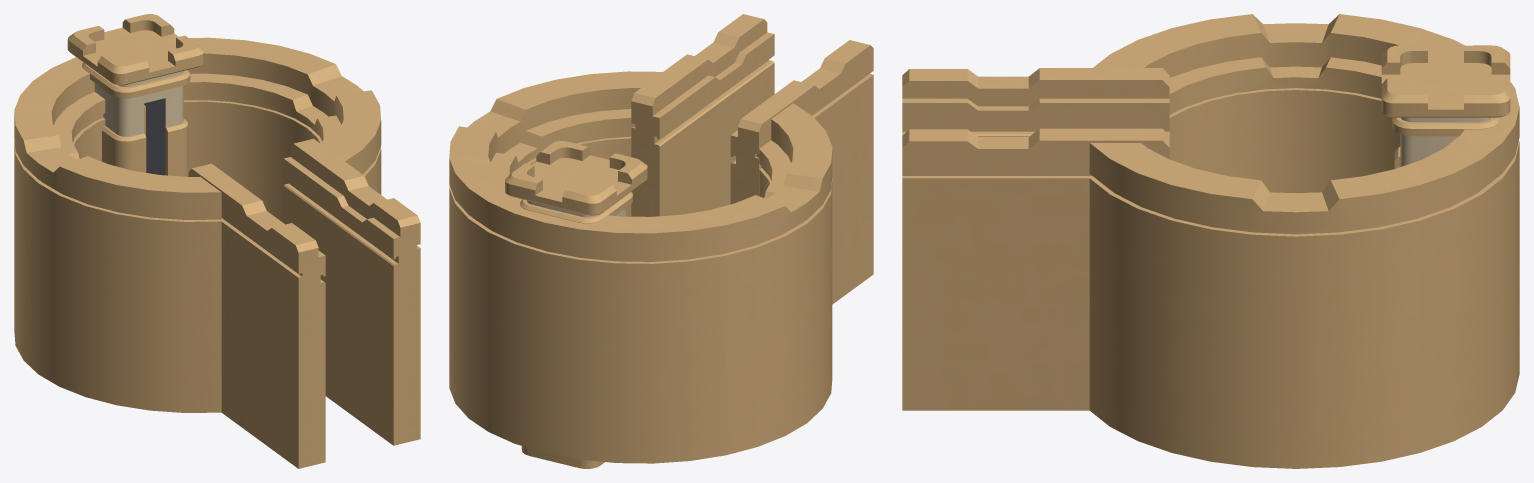
The model's file is Fort.fbx.
3 renders of one model, left to right at view 1: azimuth 30°, elevation 25°; view 2: azimuth 150°, elevation 25°; view 3: azimuth 270°, elevation 25°, orthographic. The views are drawn at different scales.
Visible parts, largest first — view 1: Fort; view 2: Fort; view 3: Fort.
Boxes of the visible parts, <box> form: Fort: <box>14,14,420,468</box>; Fort: <box>449,14,873,468</box>; Fort: <box>902,14,1519,468</box>.
Size of the model in its own units: 8474 by 6750 by 11688.
